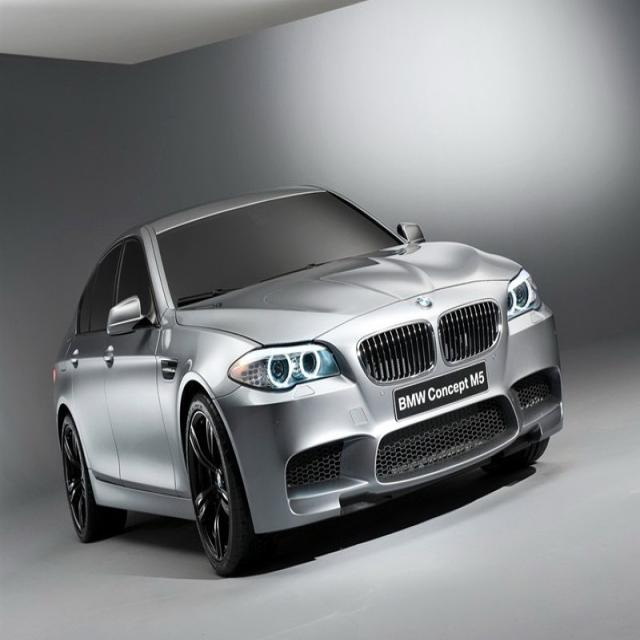front_bumper: (218, 306, 566, 535)
front_glass: (154, 188, 408, 310)
front_left_side_light: (504, 264, 545, 326)
front_left_side_mirror: (397, 219, 428, 247)
front_right_side_door: (101, 229, 181, 501)
front_right_side_light: (226, 340, 340, 394)
front_right_side_mirror: (106, 294, 158, 338)
wheel: (182, 400, 272, 576), (60, 413, 127, 544)
